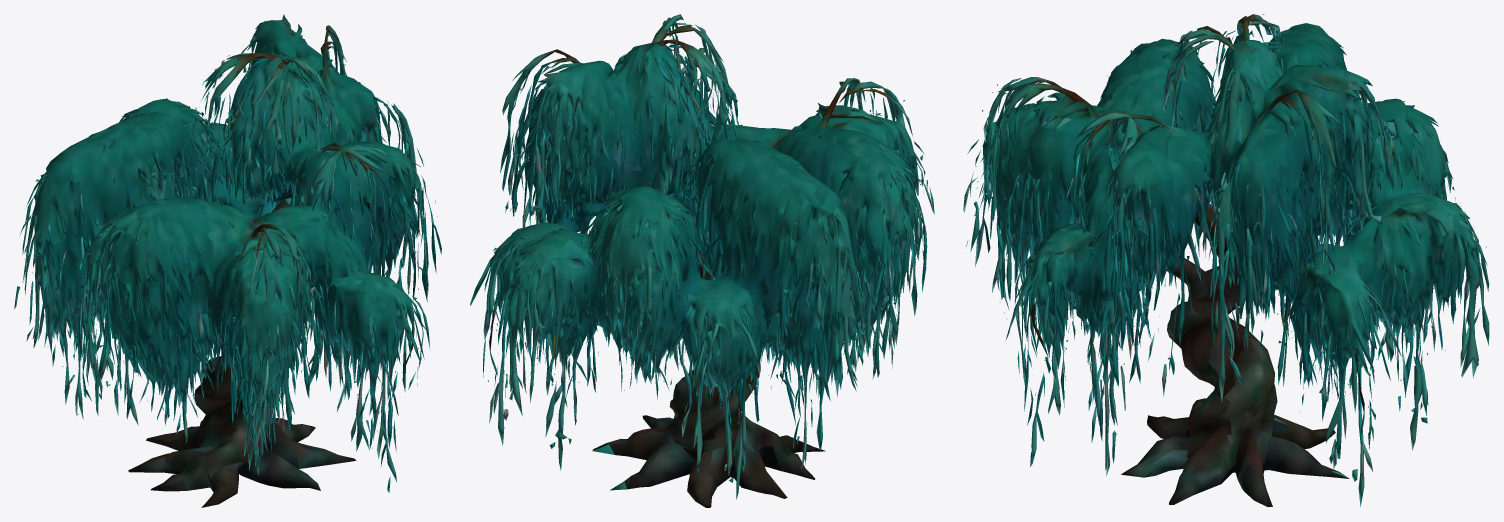
The model's file is sauce_lloron_2.fbx.
The picture shows the model from 3 angles, left to right: view 1: azimuth 30°, elevation 25°; view 2: azimuth 150°, elevation 25°; view 3: azimuth 270°, elevation 25°; orthographic projection. The views are drawn at different scales.
Parts seen in each view (by area): view 1: tripo_node_150cde9a; view 2: tripo_node_150cde9a; view 3: tripo_node_150cde9a.
Part boxes in pixels (x1,y1,x2,y2): tripo_node_150cde9a: (14,14,441,507); tripo_node_150cde9a: (470,14,934,507); tripo_node_150cde9a: (963,14,1489,507).
Size of the model in its own units: 0.9128 by 0.9484 by 1.
Materials: 1 (1 with a texture image).
